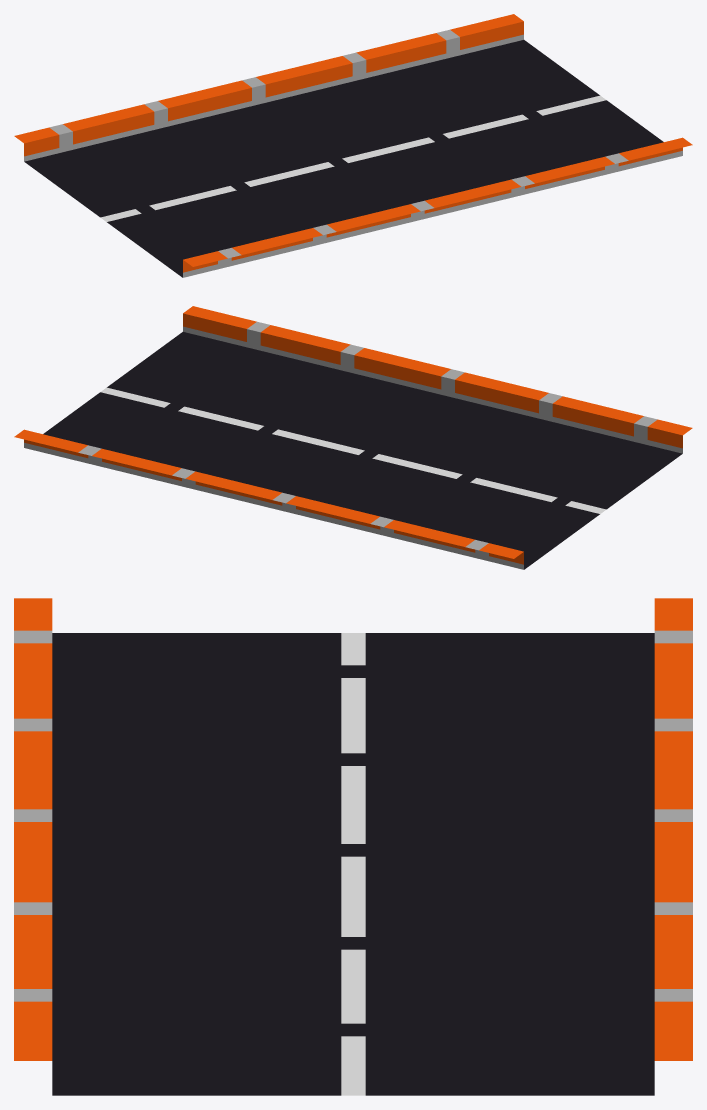
File: StraightRoad2_2.fbx
3 views of the same model, one above another, from view 1: azimuth 30°, elevation 25°; view 2: azimuth 150°, elevation 25°; view 3: azimuth 270°, elevation 25° (orthographic). The views are drawn at different scales.
Visible parts, largest first — view 1: Plane; view 2: Plane; view 3: Plane.
Boxes of the visible parts, x1,y1,x2,y2 form: Plane: (14,14,692,277); Plane: (14,306,692,569); Plane: (14,598,692,1095).
Size of the model in its own units: 2000 by 70 by 1240.
